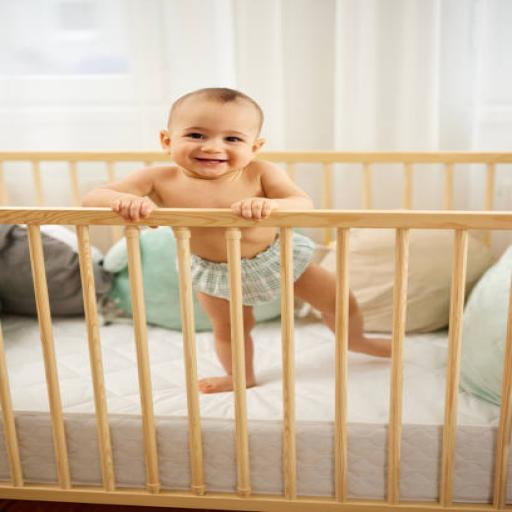baby: (83, 88, 312, 220)
crib: (0, 152, 511, 511)
